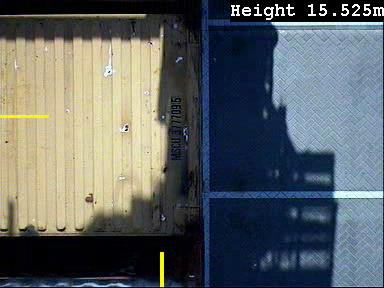groundmarker_2: (153, 25, 235, 73), (190, 246, 221, 288)
